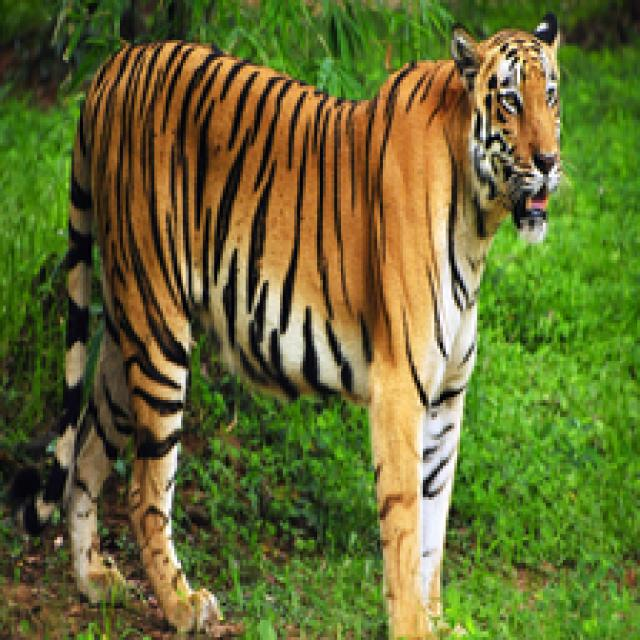tiger: (48, 0, 574, 640)
